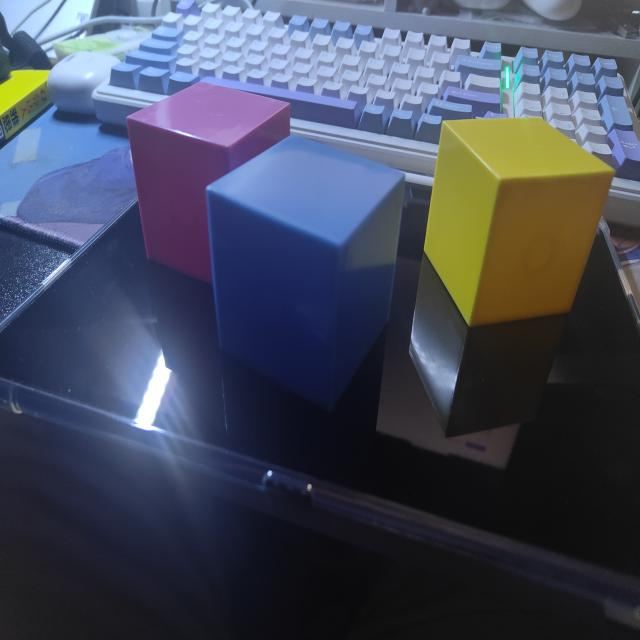blue: (205, 130, 405, 424)
pink: (124, 78, 293, 283)
yellow: (423, 116, 617, 326)
